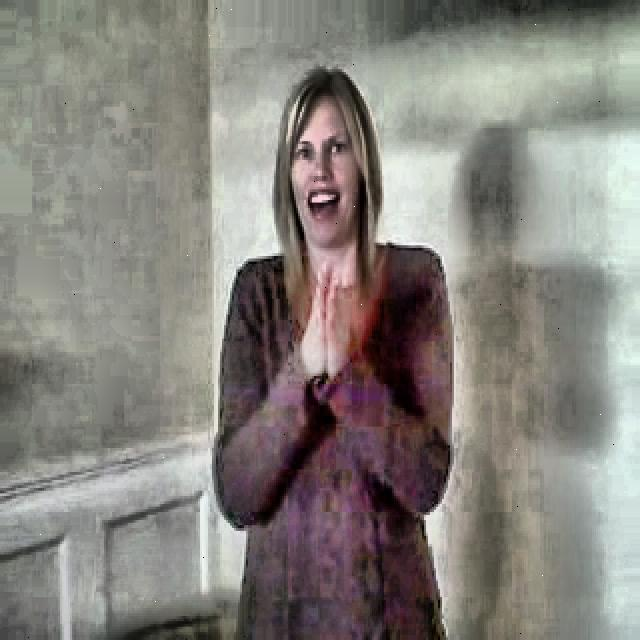F: (187, 56, 465, 626)
